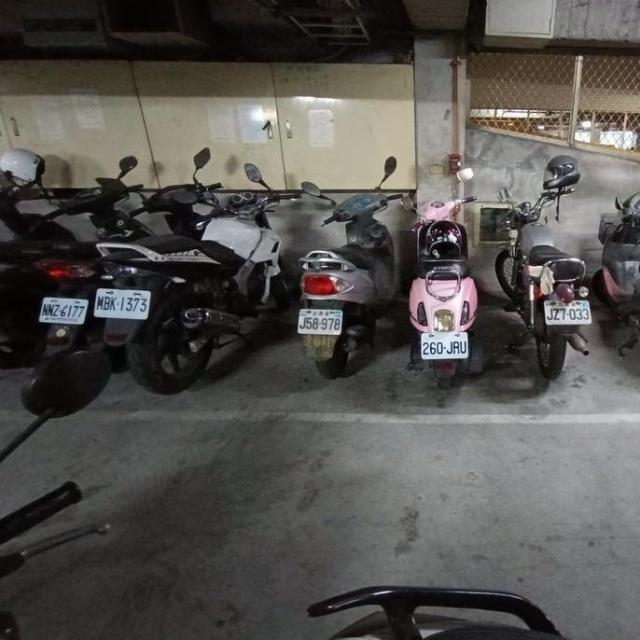W: (89, 280, 153, 325), (34, 288, 92, 330), (419, 328, 471, 362), (296, 302, 343, 339), (541, 295, 593, 327)
